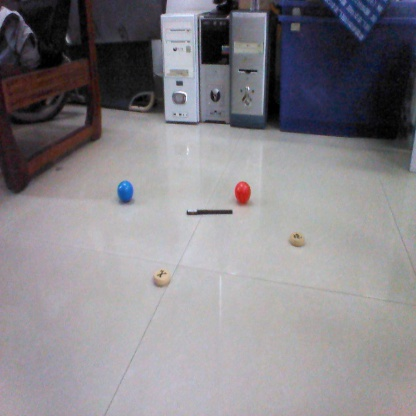ball: (114, 177, 137, 203), (234, 181, 254, 202)
chess: (152, 267, 173, 285), (290, 233, 308, 245)
pen: (184, 210, 234, 217)
